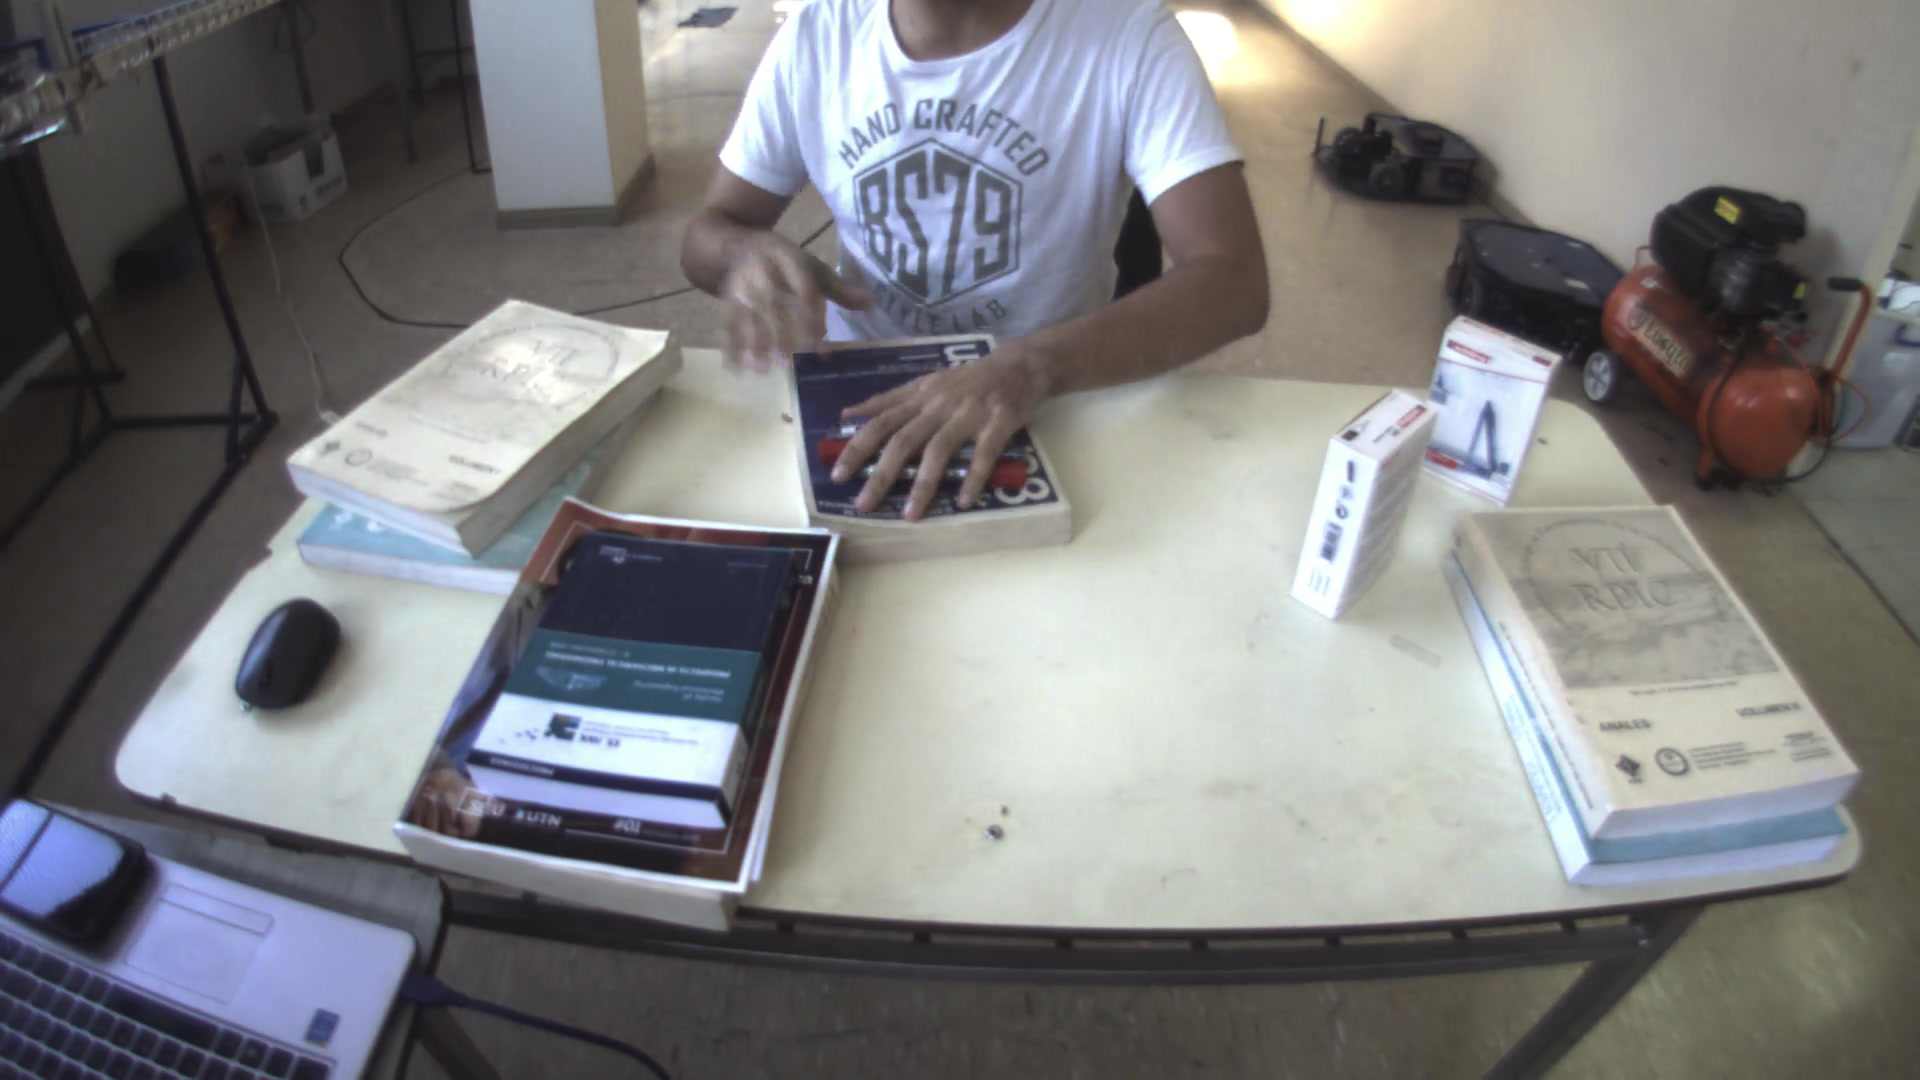hand: (819, 328, 1047, 530), (691, 222, 855, 375)
